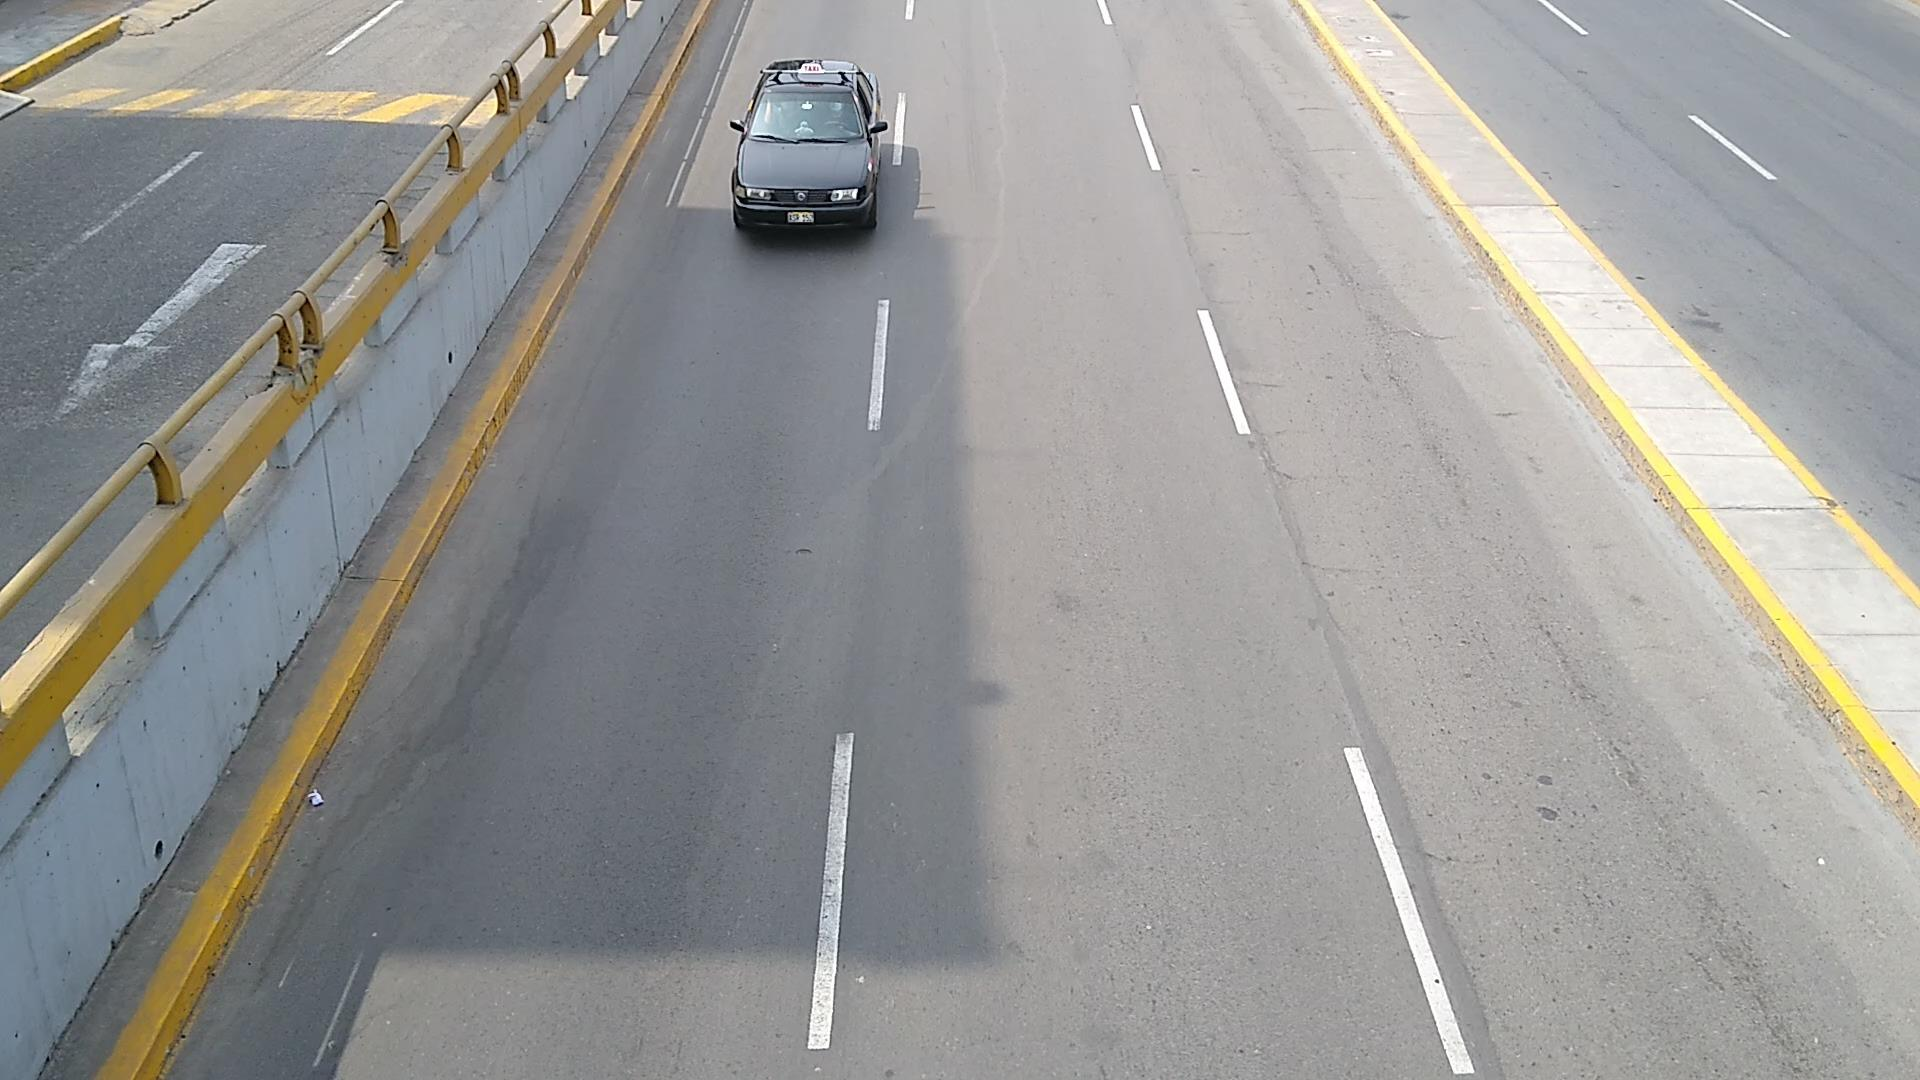car: (731, 60, 889, 229)
